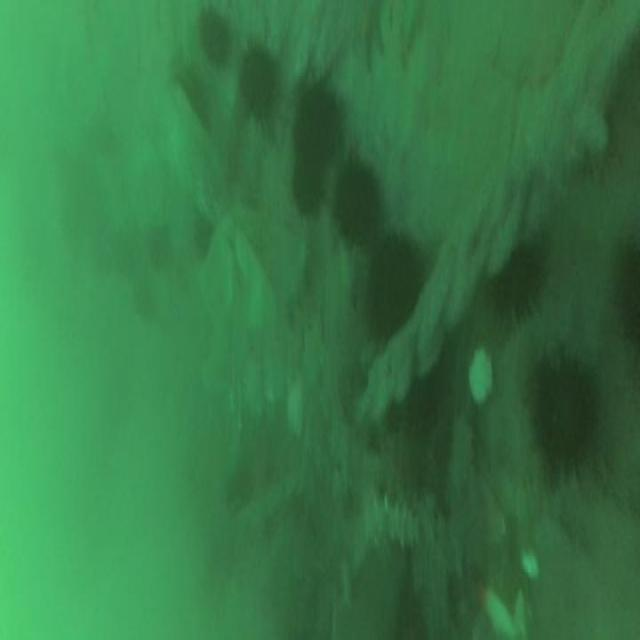echinus: (534, 360, 598, 474), (370, 234, 423, 338), (334, 158, 377, 243), (495, 245, 541, 314), (295, 87, 341, 153), (239, 46, 277, 120), (294, 155, 323, 212), (198, 12, 228, 62)
holothurian: (364, 492, 418, 552)
